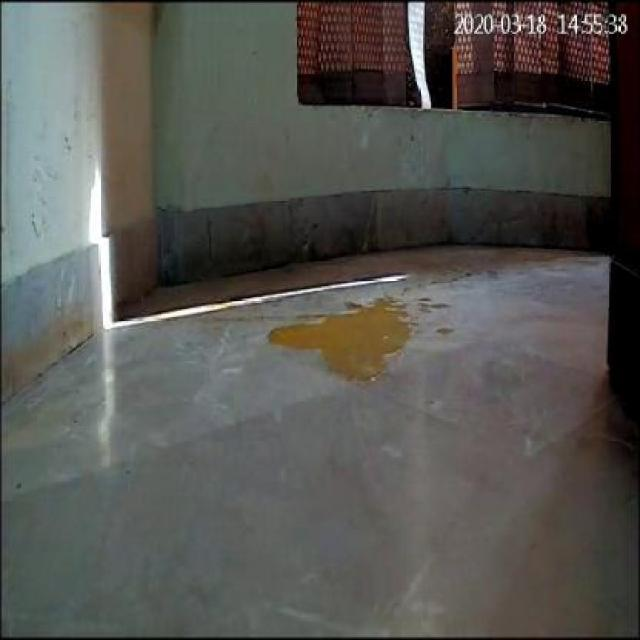spill: (274, 288, 414, 384)
